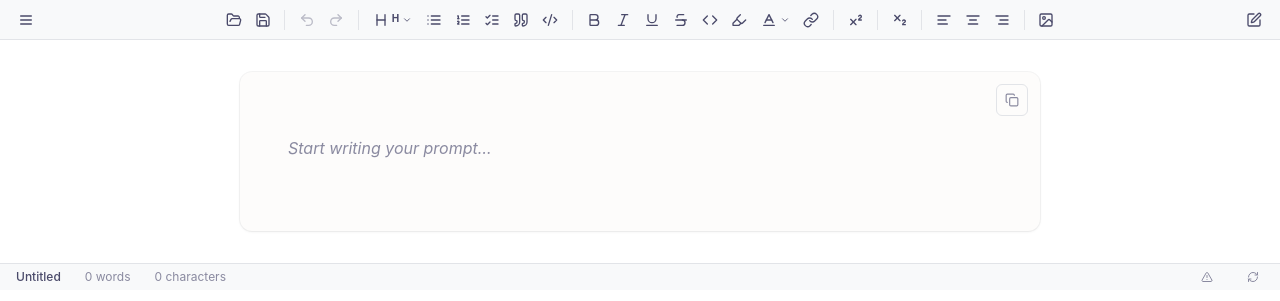
Test: Editor › open: loads the selected file and clears the dirty marker
The width and height of the screenshot is (1280, 301).
Click the button named "open file": (234, 20) x1=220 y1=6 x2=248 y2=34
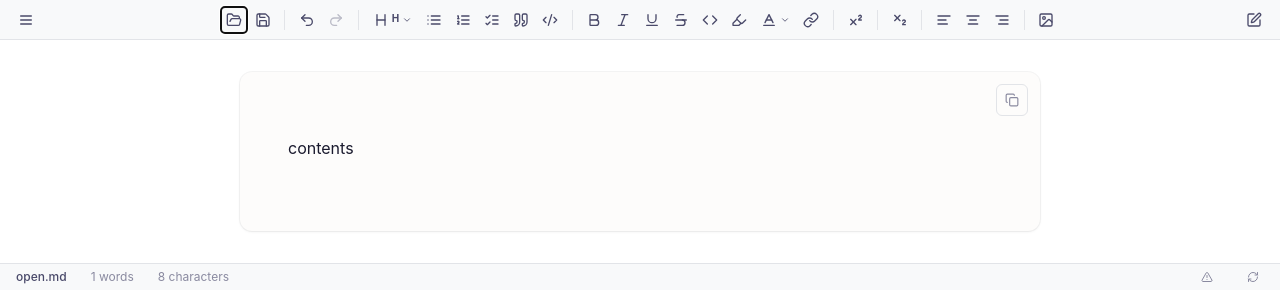
Result: the text "open.md" is shown at x1=16 y1=269 x2=67 y2=284
